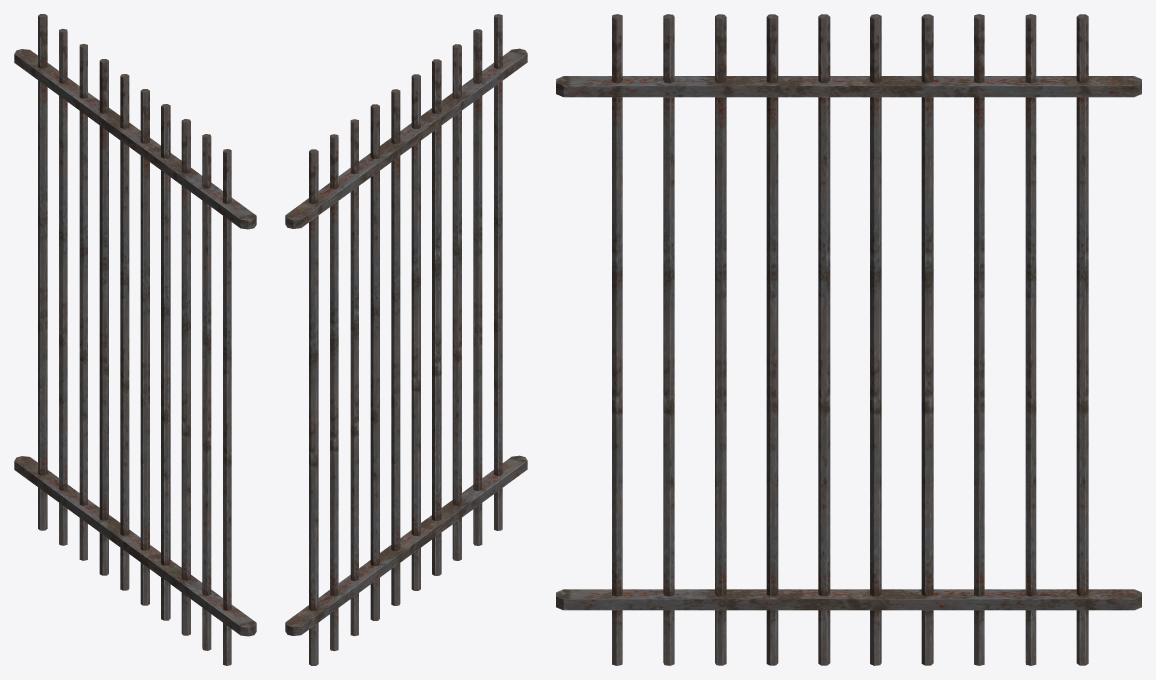
File: grade.fbx
The picture shows the model from 3 angles, left to right: view 1: azimuth 30°, elevation 25°; view 2: azimuth 150°, elevation 25°; view 3: azimuth 270°, elevation 25°; orthographic projection. The views are drawn at different scales.
Parts seen in each view (by area): view 1: Cube.001, Cube, Cylinder.002, Cylinder.003, Cylinder.005, Cylinder.009, Cylinder, Cylinder.006, Cylinder.004, Cylinder.008, Cylinder.007, Cylinder.001; view 2: Cube.001, Cube, Cylinder.004, Cylinder, Cylinder.006, Cylinder.009, Cylinder.002, Cylinder.005, Cylinder.003, Cylinder.001, Cylinder.007, Cylinder.008; view 3: Cube.001, Cube, Cylinder, Cylinder.003, Cylinder.002, Cylinder.006, Cylinder.005, Cylinder.004, Cylinder.009, Cylinder.001, Cylinder.008, Cylinder.007.
Part boxes in pixels (x1,y1,x2,y2): Cube.001: (14,49,256,229); Cube: (14,456,256,636); Cylinder.002: (99,59,108,575); Cylinder.003: (140,89,149,605); Cylinder.005: (181,119,190,635); Cylinder.009: (202,134,211,650); Cylinder: (38,14,47,530); Cylinder.006: (161,104,170,620); Cylinder.004: (120,74,129,590); Cylinder.008: (79,44,87,560); Cylinder.007: (223,149,231,665); Cylinder.001: (59,29,67,545); Cube.001: (285,48,527,228); Cube: (285,455,527,635); Cylinder.004: (391,89,400,605); Cylinder: (309,149,318,665); Cylinder.006: (432,59,441,575); Cylinder.009: (473,29,482,545); Cylinder.002: (370,104,379,620); Cylinder.005: (452,44,461,560); Cylinder.003: (411,74,420,590); Cylinder.001: (330,134,338,651); Cylinder.007: (494,14,502,530); Cylinder.008: (350,119,358,636); Cube.001: (556,76,1141,97); Cube: (556,589,1141,610); Cylinder: (1076,14,1088,665); Cylinder.003: (818,14,830,665); Cylinder.002: (921,14,933,665); Cylinder.006: (766,14,778,665); Cylinder.005: (715,14,726,665); Cylinder.004: (870,14,881,665); Cylinder.009: (663,14,674,665); Cylinder.001: (1025,14,1036,665); Cylinder.008: (974,14,984,665); Cylinder.007: (612,14,622,665).
Bounding box in the file's own units: 105 × 3236 × 2656.
